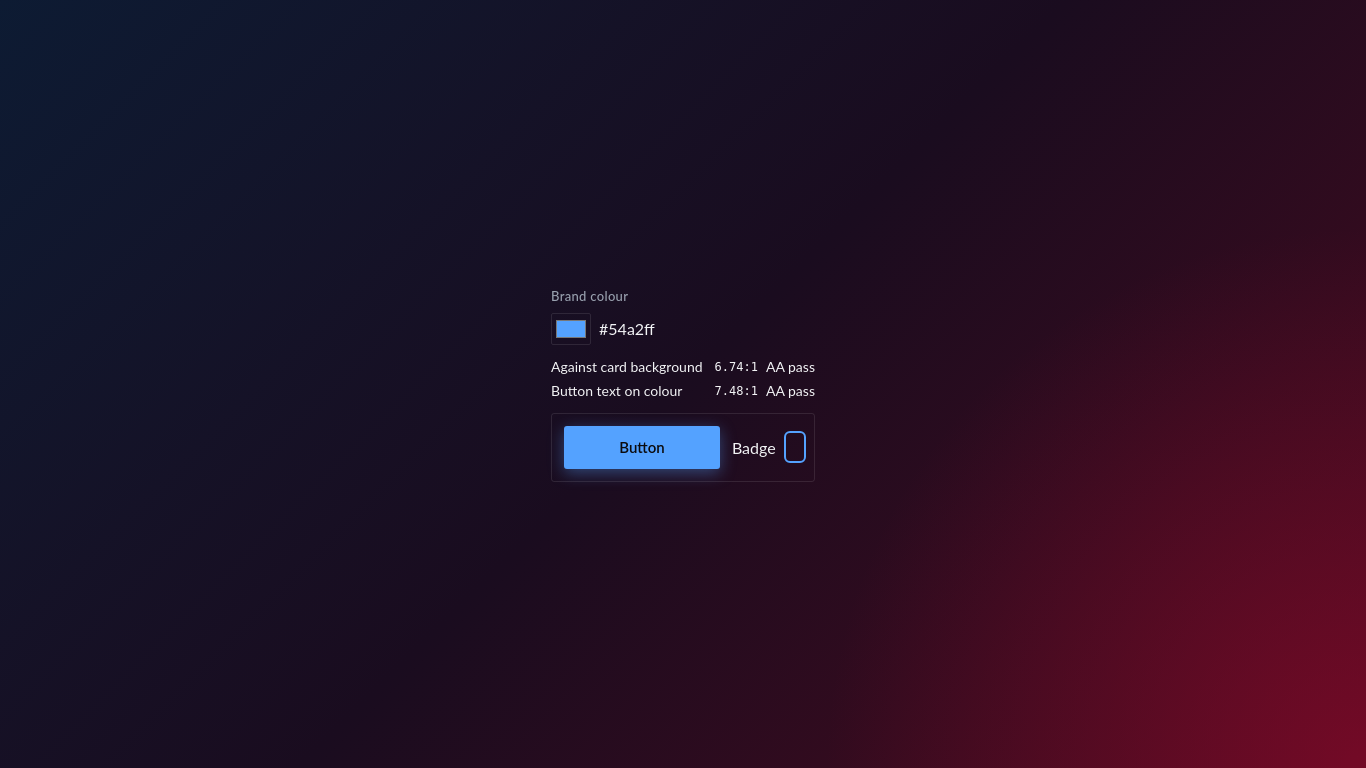
Test: ColorField › accepts a passing colour and rejects a low-contrast one
Later steps or results of the test are not shown.
Clear the field at (700, 329), box [599,316,800,342]
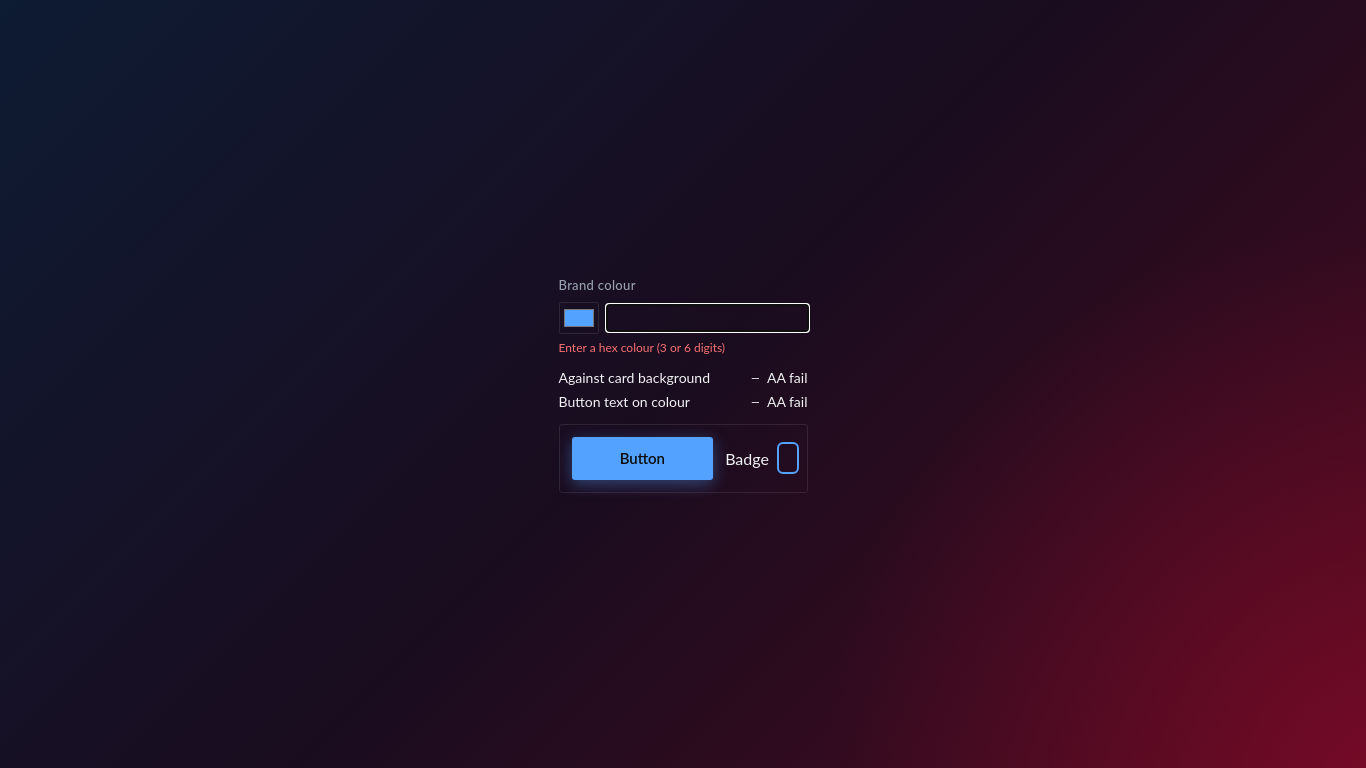
Type "#1a1a1a" into the field at (707, 318), box [606,305,808,331]
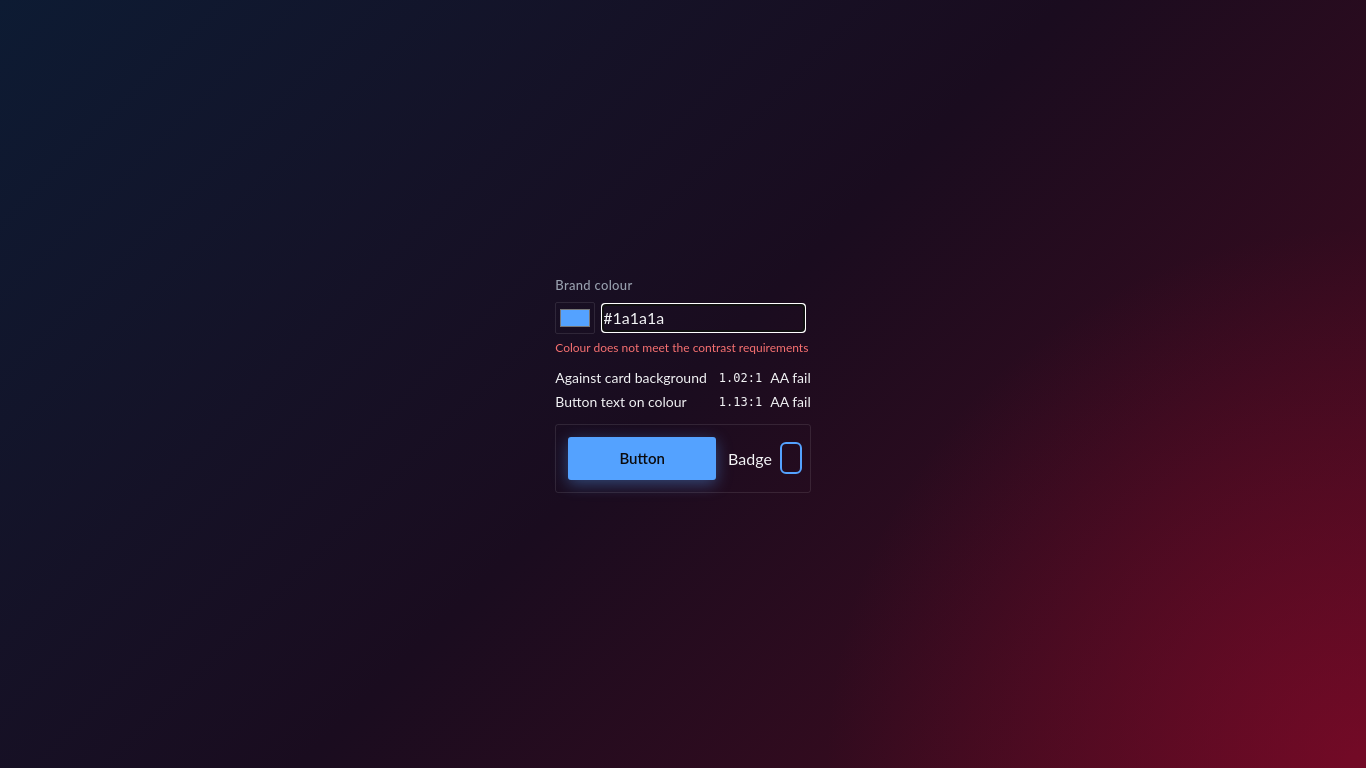
Check: the message shows "contrast", box [555,340,808,355]
